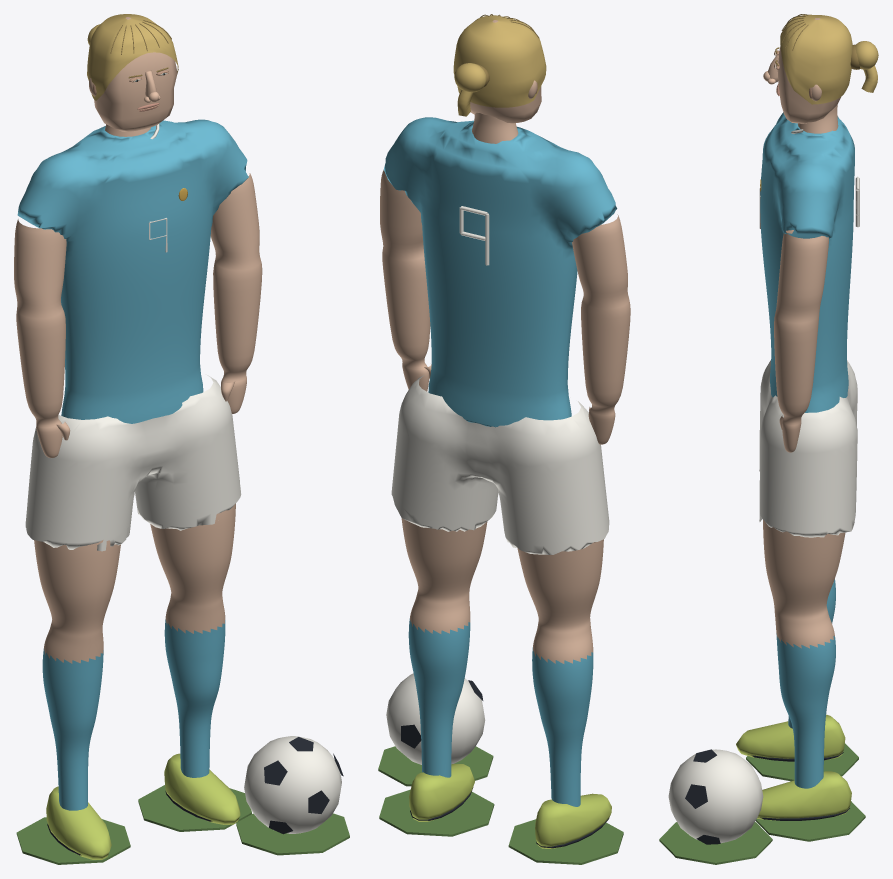
Rendered from haaland.glb.
3 views of the same model, side by side, from view 1: azimuth 30°, elevation 25°; view 2: azimuth 150°, elevation 25°; view 3: azimuth 270°, elevation 25° (orthographic). The views are drawn at different scales.
Visible parts, largest first — view 1: jersey_cyan, shorts_white, arms_pale, legs_pale, legs_cyan, turf_grass, football_white, boots_lime, head_pale, hair_cap_blond, football_panels_ink; view 2: jersey_cyan, shorts_white, arms_pale, legs_pale, legs_cyan, turf_grass, hair_cap_blond, boots_lime, football_white, neck_pale, head_pale, hair_knot_blond (+1 smaller); view 3: jersey_cyan, shorts_white, arms_pale, legs_pale, football_white, legs_cyan, turf_grass, boots_lime, hair_cap_blond, head_pale, football_panels_ink, neck_pale (+2 smaller).
Part boxes in pixels (x1,y1,x2,y2): jersey_cyan: (17, 119, 248, 423); shorts_white: (25, 375, 241, 551); arms_pale: (14, 173, 262, 457); legs_pale: (34, 503, 235, 663); legs_cyan: (42, 619, 225, 810); turf_grass: (16, 785, 349, 864); football_white: (244, 736, 341, 833); boots_lime: (46, 753, 240, 859); head_pale: (94, 17, 177, 131); hair_cap_blond: (87, 14, 178, 100); football_panels_ink: (264, 737, 343, 834); jersey_cyan: (383, 117, 617, 427); shorts_white: (391, 375, 609, 554); arms_pale: (380, 170, 630, 444); legs_pale: (401, 518, 603, 663); legs_cyan: (408, 618, 593, 806); turf_grass: (378, 746, 623, 864); hair_cap_blond: (453, 15, 546, 107); boots_lime: (409, 764, 611, 848); football_white: (386, 673, 485, 764); neck_pale: (472, 112, 518, 143); head_pale: (470, 20, 541, 123); hair_knot_blond: (454, 63, 486, 92); jersey_cyan: (760, 112, 854, 412); shorts_white: (759, 360, 857, 537); arms_pale: (774, 230, 828, 452); legs_pale: (763, 520, 845, 648); football_white: (668, 749, 763, 842); legs_cyan: (776, 579, 835, 788); turf_grass: (659, 743, 865, 864); boots_lime: (736, 714, 851, 820); hair_cap_blond: (780, 14, 852, 104); head_pale: (777, 18, 841, 123); football_panels_ink: (685, 749, 720, 844); neck_pale: (798, 105, 838, 133).
Bounding box in the file's own units: 0.7198 × 1.95 × 0.5033.
